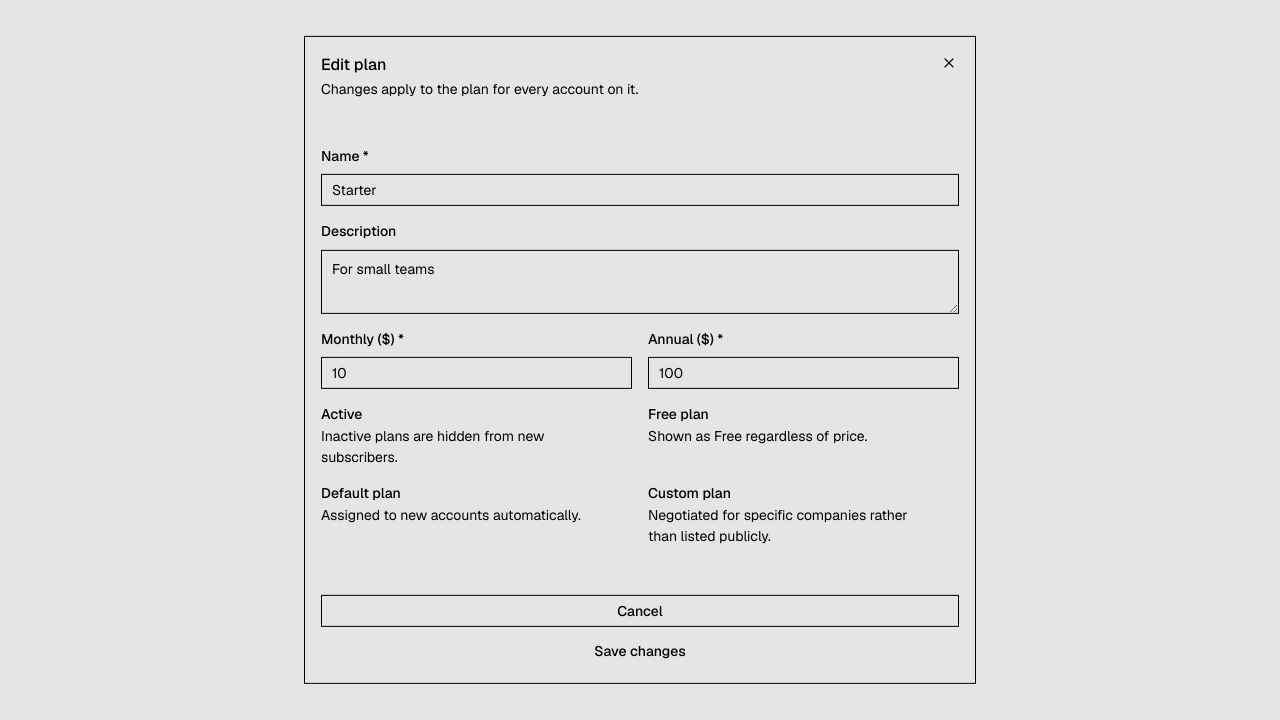
Test: PlanFormSheet extras › paints matching field errors and toasts the unmatched ones
Click the button "Save changes".
click(640, 651)  # box [321,635,959,667]
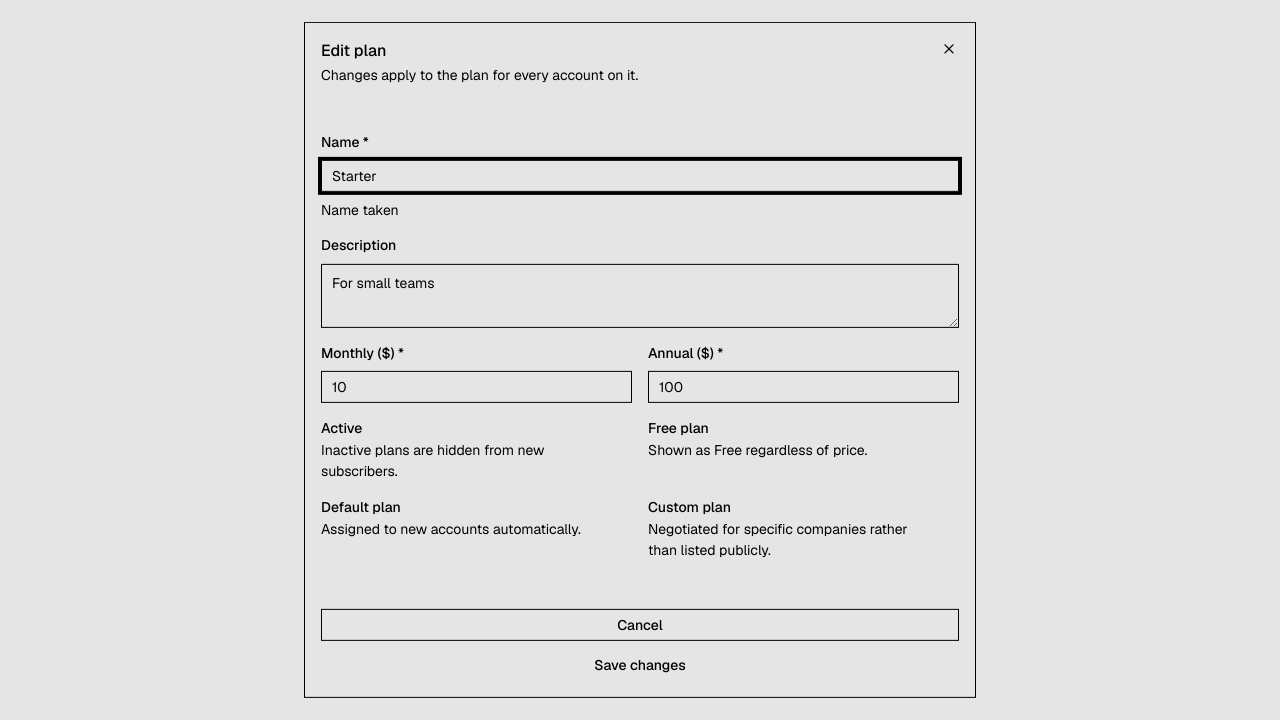
Expected: the text "Name taken" is shown, [321,201,399,219]
